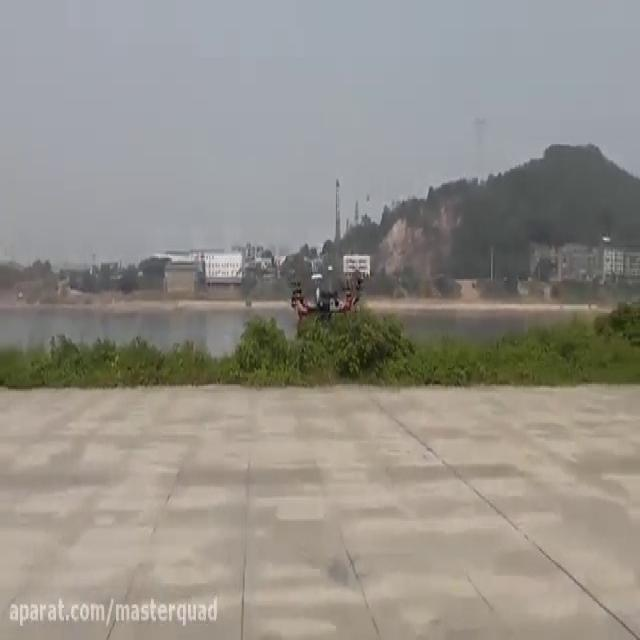drone: (288, 267, 365, 320)
